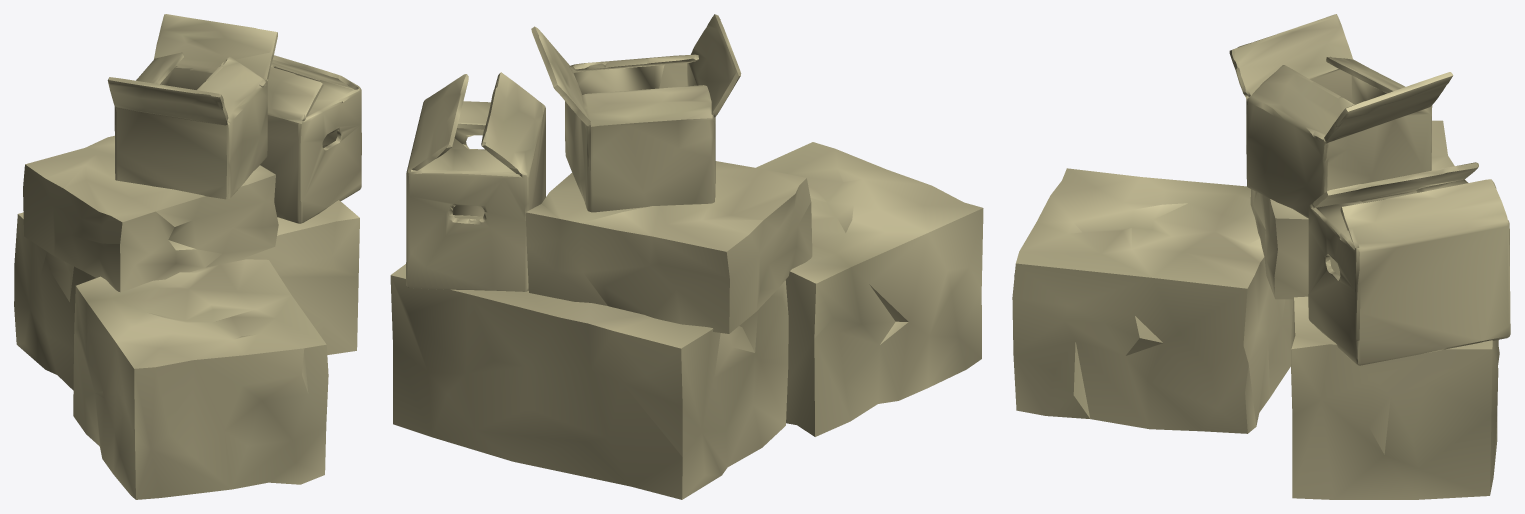
Rendered from BoxStack01.fbx.
3 renders of one model, left to right at view 1: azimuth 30°, elevation 25°; view 2: azimuth 150°, elevation 25°; view 3: azimuth 270°, elevation 25°, orthographic. The views are drawn at different scales.
Parts seen in each view (by area): view 1: Box1, Box3, Box5, Box2, Box4; view 2: Box2, Box1, Box3, Box4, Box5; view 3: Box1, Box4, Box2, Box5, Box3.
Part boxes in pixels (x1=…): Box1: x1=73, y1=259, x2=328, y2=499; Box3: x1=23, y1=135, x2=278, y2=292; Box5: x1=107, y1=14, x2=277, y2=199; Box2: x1=14, y1=200, x2=359, y2=390; Box4: x1=260, y1=55, x2=361, y2=223; Box2: x1=390, y1=264, x2=788, y2=499; Box1: x1=756, y1=142, x2=983, y2=436; Box3: x1=525, y1=161, x2=812, y2=333; Box4: x1=406, y1=72, x2=545, y2=291; Box5: x1=531, y1=14, x2=741, y2=212; Box1: x1=1012, y1=168, x2=1293, y2=433; Box4: x1=1308, y1=162, x2=1510, y2=365; Box2: x1=1291, y1=296, x2=1499, y2=499; Box5: x1=1229, y1=14, x2=1453, y2=218; Box3: x1=1250, y1=120, x2=1454, y2=299.
Size of the model in its own units: 157 by 135 by 167.
